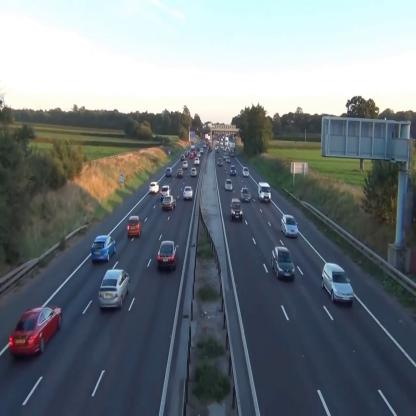car: (9, 306, 63, 357), (320, 262, 354, 307), (98, 268, 131, 310), (272, 245, 296, 280), (91, 235, 116, 264), (157, 240, 179, 272), (280, 212, 300, 240), (127, 215, 142, 239), (230, 196, 244, 221), (162, 195, 177, 211), (240, 186, 251, 204), (160, 184, 172, 200), (184, 185, 194, 200), (149, 181, 159, 194), (225, 178, 232, 191), (242, 166, 250, 177), (230, 164, 237, 176), (166, 166, 172, 178), (176, 168, 183, 178), (193, 156, 200, 166), (182, 160, 189, 168), (216, 157, 222, 166), (191, 166, 196, 176)
lorry: (258, 180, 271, 204)
